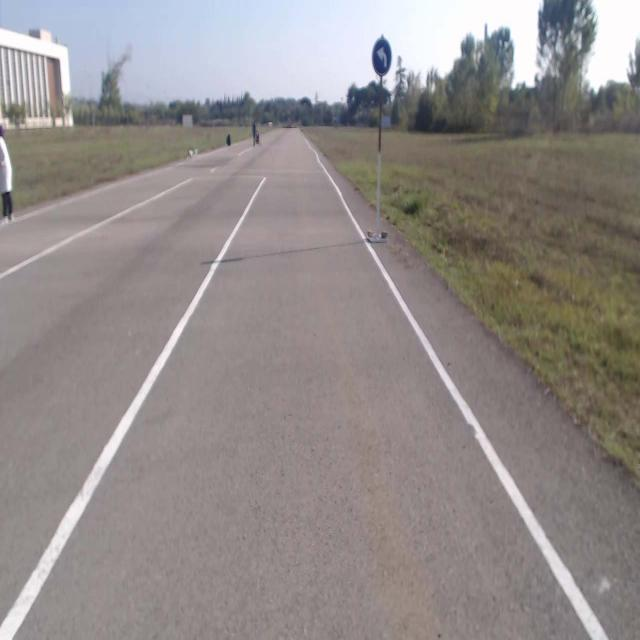sol: (372, 39, 391, 75)
